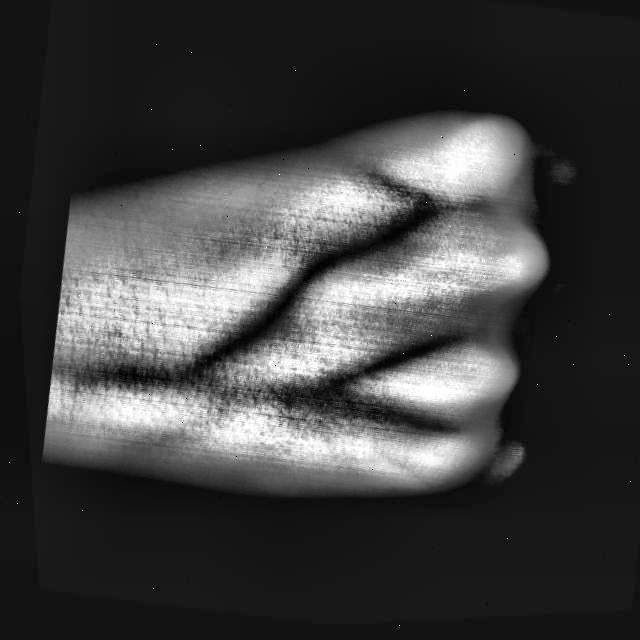Vein: (189, 236, 353, 377)
